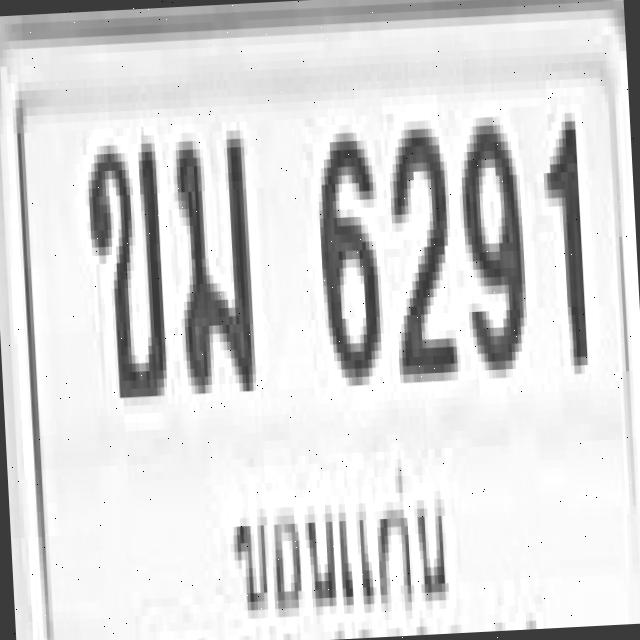1: (540, 112, 584, 366)
11KhorKhai: (82, 134, 164, 390)
2: (385, 120, 453, 374)
42MorMa: (171, 122, 253, 386)
6: (312, 124, 379, 378)
9: (455, 108, 526, 362)
KhonKaen: (219, 440, 458, 640)
